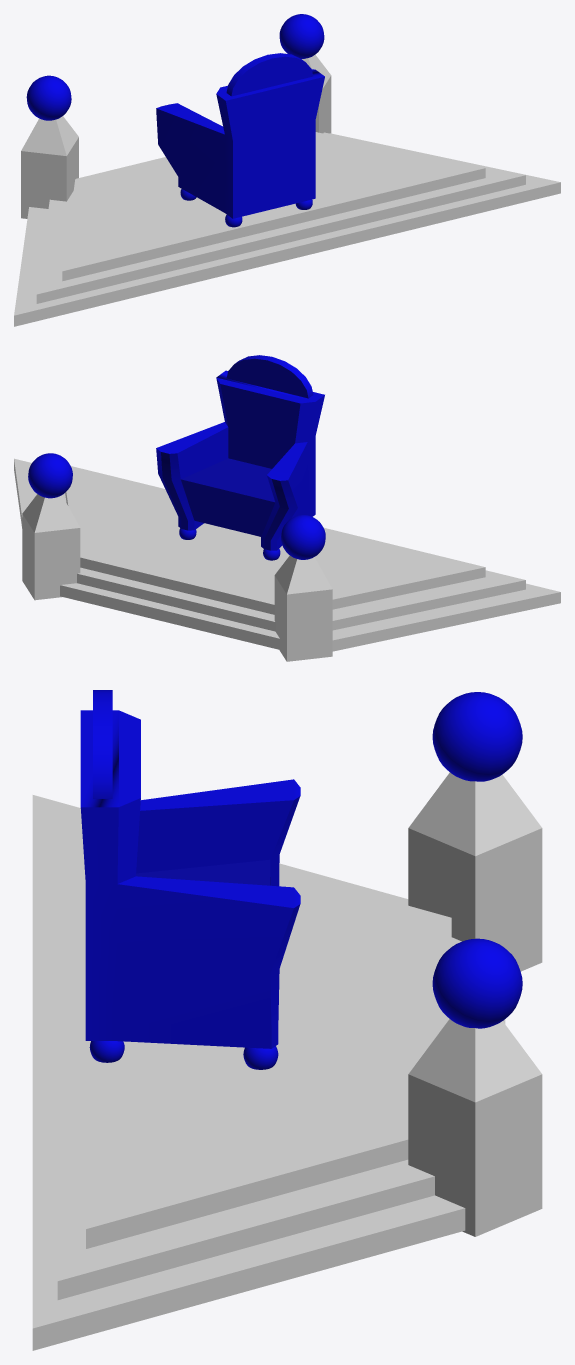
File: throne_circle_king.fbx
3 renders of one model, top to bottom at view 1: azimuth 30°, elevation 25°; view 2: azimuth 150°, elevation 25°; view 3: azimuth 270°, elevation 25°, orthographic. The views are drawn at different scales.
Visible parts, largest first — view 1: polySurface19; view 2: polySurface19; view 3: polySurface19.
Boxes of the visible parts, bbox=[...] form: polySurface19: bbox=[14, 14, 560, 326]; polySurface19: bbox=[14, 355, 560, 661]; polySurface19: bbox=[32, 690, 542, 1350].
Size of the model in its own units: 28.01 by 9.39 by 11.3.
